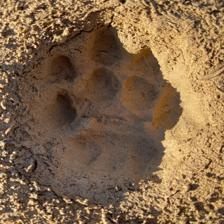raccoon: (74, 80, 147, 154)
